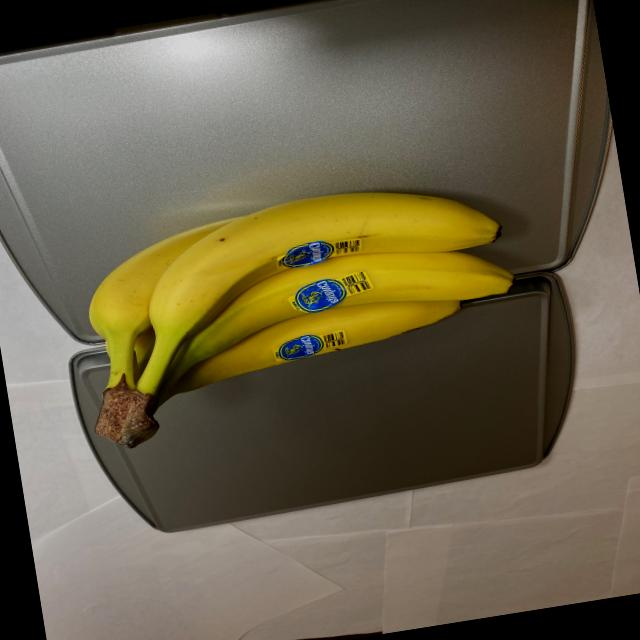banana: (57, 168, 534, 456)
